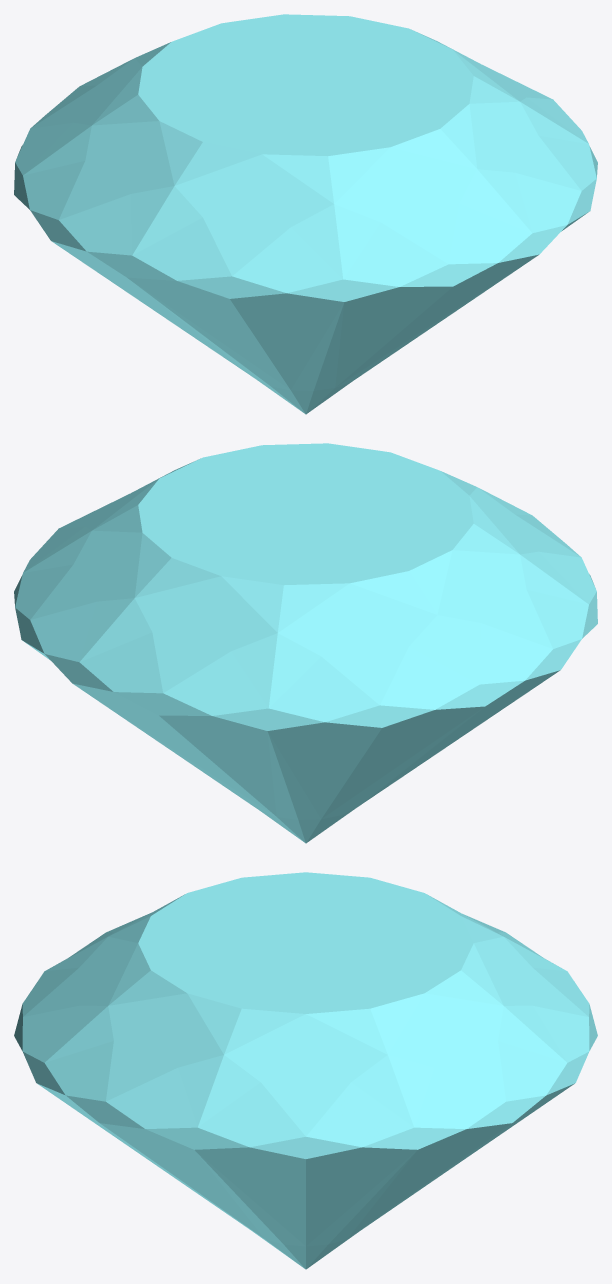
3 renders of one model, top to bottom at view 1: azimuth 30°, elevation 25°; view 2: azimuth 150°, elevation 25°; view 3: azimuth 270°, elevation 25°, orthographic.
Visible parts, largest first — view 1: pCone1; view 2: pCone1; view 3: pCone1.
Part boxes in pixels (x1,y1,x2,y2): pCone1: [14, 14, 597, 414]; pCone1: [14, 443, 597, 843]; pCone1: [14, 872, 597, 1269].
Size of the model in its own units: 2 by 1.23 by 2.
